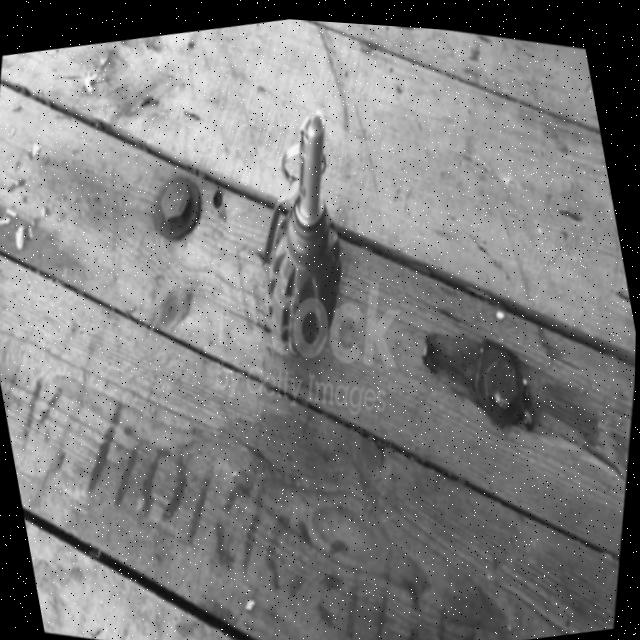grenade: (209, 85, 402, 379)
